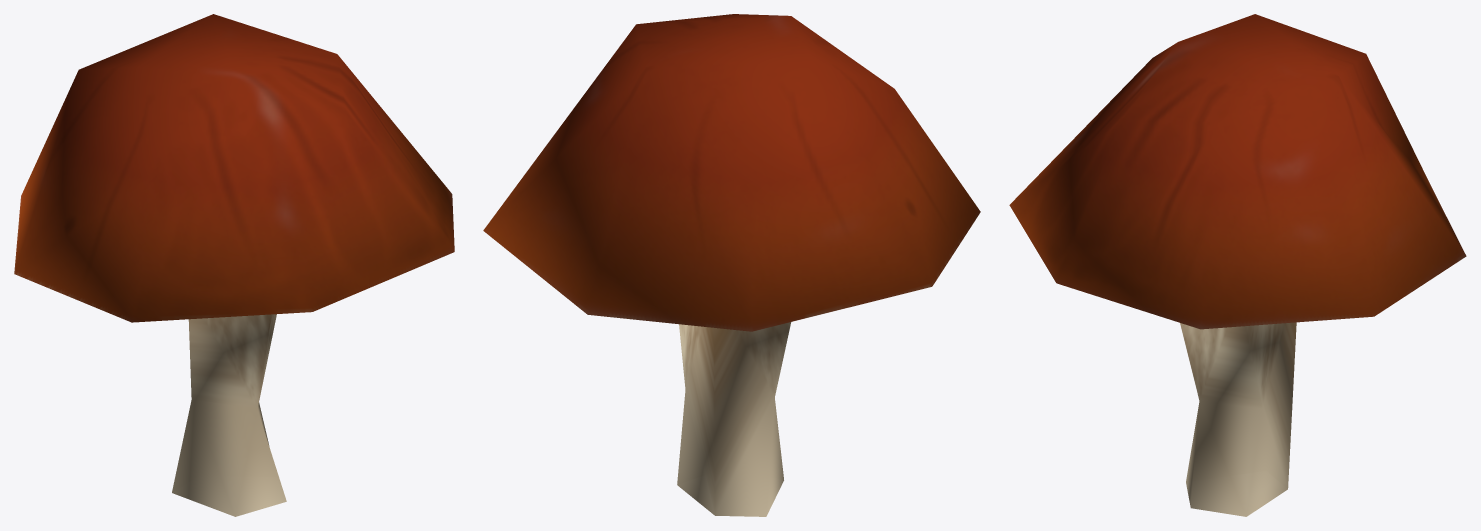
The model's file is mushroom.glb.
The picture shows the model from 3 angles, left to right: view 1: azimuth 30°, elevation 25°; view 2: azimuth 150°, elevation 25°; view 3: azimuth 270°, elevation 25°; orthographic projection. The views are drawn at different scales.
Parts seen in each view (by area): view 1: mushroom; view 2: mushroom; view 3: mushroom.
Part boxes in pixels (x1,y1,x2,y2): mushroom: [14, 14, 454, 516]; mushroom: [483, 14, 980, 516]; mushroom: [1009, 14, 1466, 516].
Size of the model in its own units: 0.1715 by 0.1779 by 0.168.
Materials: 1 (1 with a texture image).
